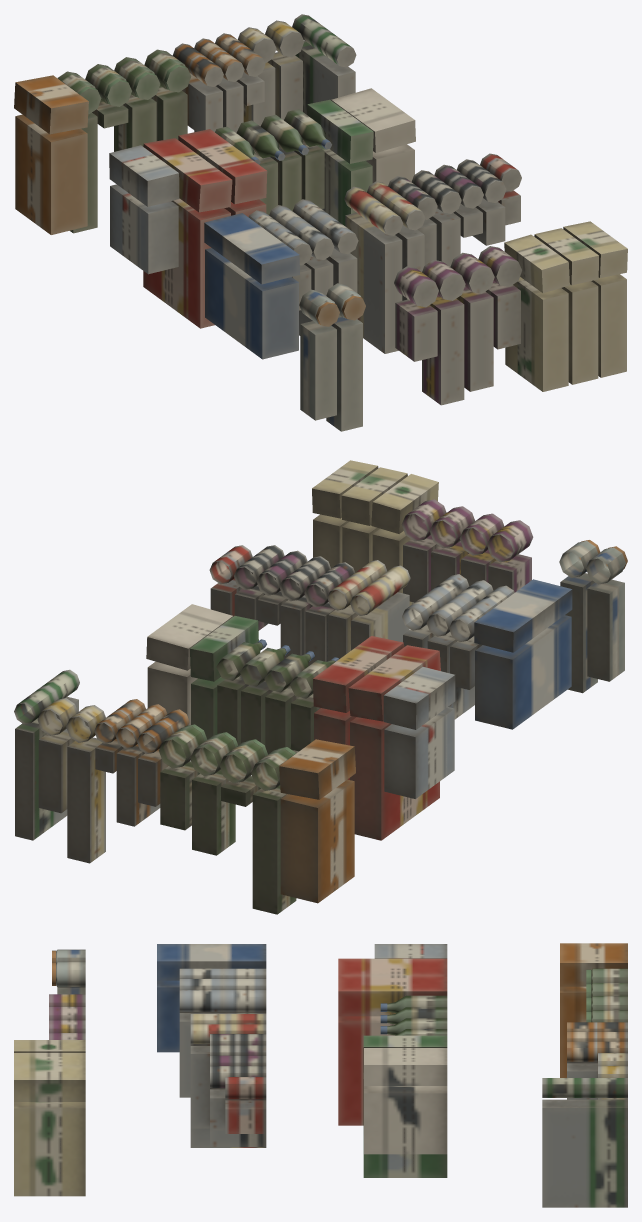
File: goods_store_1.obj
The picture shows the model from 3 angles, top to bottom: view 1: azimuth 30°, elevation 25°; view 2: azimuth 150°, elevation 25°; view 3: azimuth 270°, elevation 25°; orthographic projection. The views are drawn at different scales.
Size of the model in its own units: 0.8698 by 0.4118 by 1.63.
Materials: 1 (1 with a texture image).
